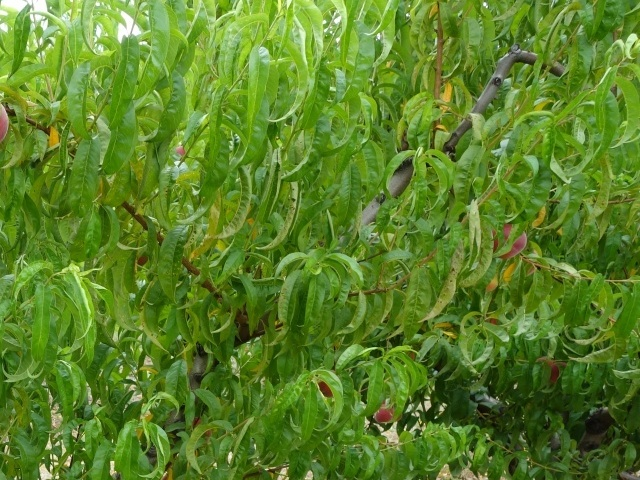peach: (488, 216, 533, 264), (370, 401, 401, 429)
